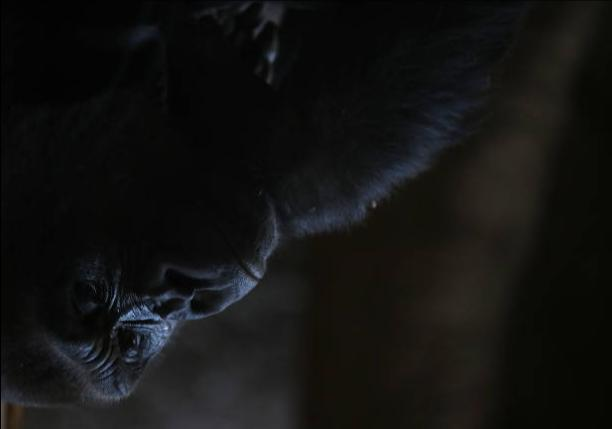gorille_Autres: (0, 0, 529, 428)
